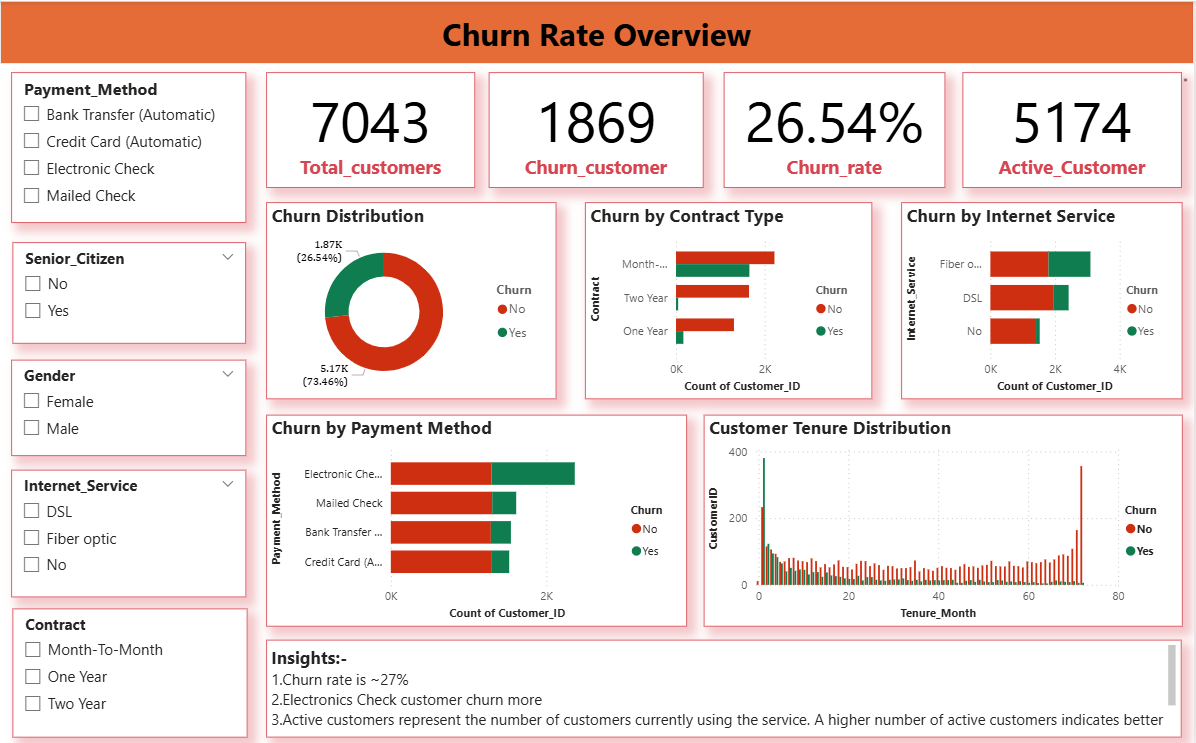

Layout of this report page (visuals, bound fields, positions):
{"tool":"powerbi","page":{"name":"Page 4","canvas":[1280,720],"ordinal":3},"visuals":[{"type":"shape","box":[0,0,1280.3,67.3],"z":0},{"type":"card","fields":{"Values":["Telco_Customer_Churn_Dataset.Total_customers"]},"box":[298.4,79.5,223.8,124.7],"z":1000},{"type":"card","fields":{"Values":["Telco_Customer_Churn_Dataset.Churn_customer"]},"box":[538,79.5,225,124.7],"z":2000},{"type":"card","fields":{"Values":["Telco_Customer_Churn_Dataset.Churn_rate"]},"box":[785.1,80.7,225,123.5],"z":3000},{"type":"card","fields":{"Values":["Telco_Customer_Churn_Dataset.Active_Customer"]},"box":[1033.3,80.7,225,123.5],"z":4000},{"type":"clusteredBarChart","title":"Churn by Contract Type","fields":{"Category":["Telco_Customer_Churn_Dataset.Contract"],"Y":["CountNonNull(Telco_Customer_Churn_Dataset.Customer_ID)"],"Series":["Telco_Customer_Churn_Dataset.Churn"]},"box":[298.4,221.3,478.1,251.9],"z":5000},{"type":"barChart","title":"Churn by Payment Method ","fields":{"Y":["CountNonNull(Telco_Customer_Churn_Dataset.Customer_ID)"],"Series":["Telco_Customer_Churn_Dataset.Churn"],"Category":["Telco_Customer_Churn_Dataset.Payment_Method"]},"box":[797.3,221.3,461,251.9],"z":6000},{"type":"barChart","title":"Churn by Internet Service ","fields":{"Y":["CountNonNull(Telco_Customer_Churn_Dataset.Customer_ID)"],"Series":["Telco_Customer_Churn_Dataset.Churn"],"Category":["Telco_Customer_Churn_Dataset.Internet_Service"]},"box":[298.4,486.7,478.1,222.6],"z":7000},{"type":"slicer","fields":{"Values":["Telco_Customer_Churn_Dataset.Contract"]},"box":[13.5,425.5,251.9,138.2],"z":8000},{"type":"slicer","fields":{"Values":["Telco_Customer_Churn_Dataset.Payment_Method"]},"box":[13.5,79.5,251.9,161.4],"z":9000},{"type":"slicer","fields":{"Values":["Telco_Customer_Churn_Dataset.Internet_Service"]},"box":[13.5,267.8,251.9,137],"z":10000},{"type":"slicer","fields":{"Values":["Telco_Customer_Churn_Dataset.Gender"]},"box":[13.5,587,251.9,113.7],"z":11000},{"type":"textbox","box":[797.3,486.7,461,222.6],"z":12000}]}

Visuals, with their boxes on the page's 1280x720 design canvas (x1, y1, x2, y2). These are canvas units, not pixel positions in the 1196x743 screenshot, which may show the page scaled, cropped or inside an application window:
shape: bbox=(0, 0, 1280, 67)
card - Telco_Customer_Churn_Dataset.Total_customers: bbox=(298, 80, 522, 204)
card - Telco_Customer_Churn_Dataset.Churn_customer: bbox=(538, 80, 763, 204)
card - Telco_Customer_Churn_Dataset.Churn_rate: bbox=(785, 81, 1010, 204)
card - Telco_Customer_Churn_Dataset.Active_Customer: bbox=(1033, 81, 1258, 204)
"Churn by Contract Type" clusteredBarChart: bbox=(298, 221, 776, 473)
"Churn by Payment Method " barChart: bbox=(797, 221, 1258, 473)
"Churn by Internet Service " barChart: bbox=(298, 487, 776, 709)
slicer - Telco_Customer_Churn_Dataset.Contract: bbox=(14, 426, 265, 564)
slicer - Telco_Customer_Churn_Dataset.Payment_Method: bbox=(14, 80, 265, 241)
slicer - Telco_Customer_Churn_Dataset.Internet_Service: bbox=(14, 268, 265, 405)
slicer - Telco_Customer_Churn_Dataset.Gender: bbox=(14, 587, 265, 701)
textbox: bbox=(797, 487, 1258, 709)
